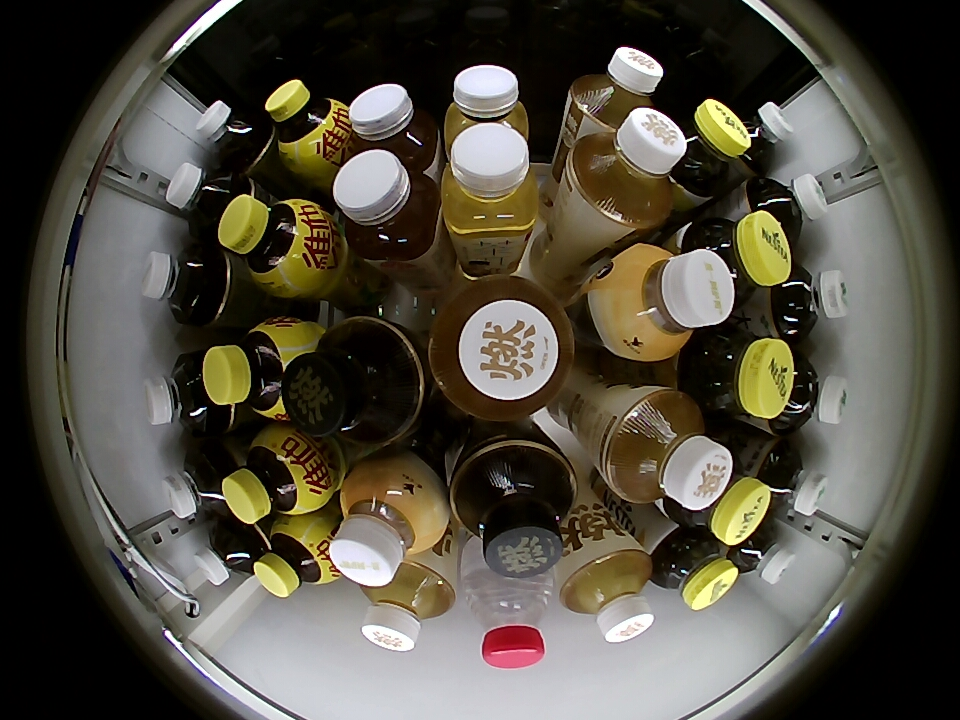asamu: (605, 243, 734, 360), (329, 466, 446, 588)
chacui: (675, 328, 795, 419), (678, 212, 792, 307), (664, 456, 770, 544), (668, 99, 748, 198), (650, 527, 738, 611)
chapai: (332, 150, 441, 263), (349, 83, 440, 171)
chapai2: (441, 122, 540, 240), (443, 65, 529, 148)
damaicha: (771, 263, 849, 342), (773, 354, 849, 434), (746, 174, 828, 246), (755, 440, 828, 516), (729, 518, 795, 584), (733, 101, 794, 172)
nongfushanquan: (464, 559, 552, 671)
rancha-1: (450, 434, 580, 578), (282, 316, 426, 442)
rancha-2: (428, 276, 574, 422), (597, 387, 732, 511), (564, 107, 687, 231), (559, 544, 655, 644), (361, 561, 456, 652), (571, 46, 664, 132)
weitaningmeng-bottle: (217, 193, 328, 294), (202, 318, 306, 421), (221, 429, 324, 524), (265, 78, 349, 165), (254, 517, 337, 597)
wulongcha: (140, 245, 216, 325), (144, 353, 216, 435), (165, 163, 241, 236), (162, 446, 229, 520), (197, 99, 265, 166), (193, 520, 260, 586)
